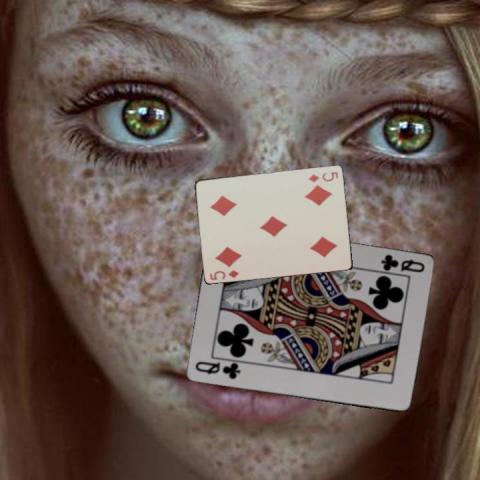5d: (306, 169, 340, 183), (207, 267, 240, 281)
Qc: (377, 251, 426, 274), (192, 359, 241, 381)
